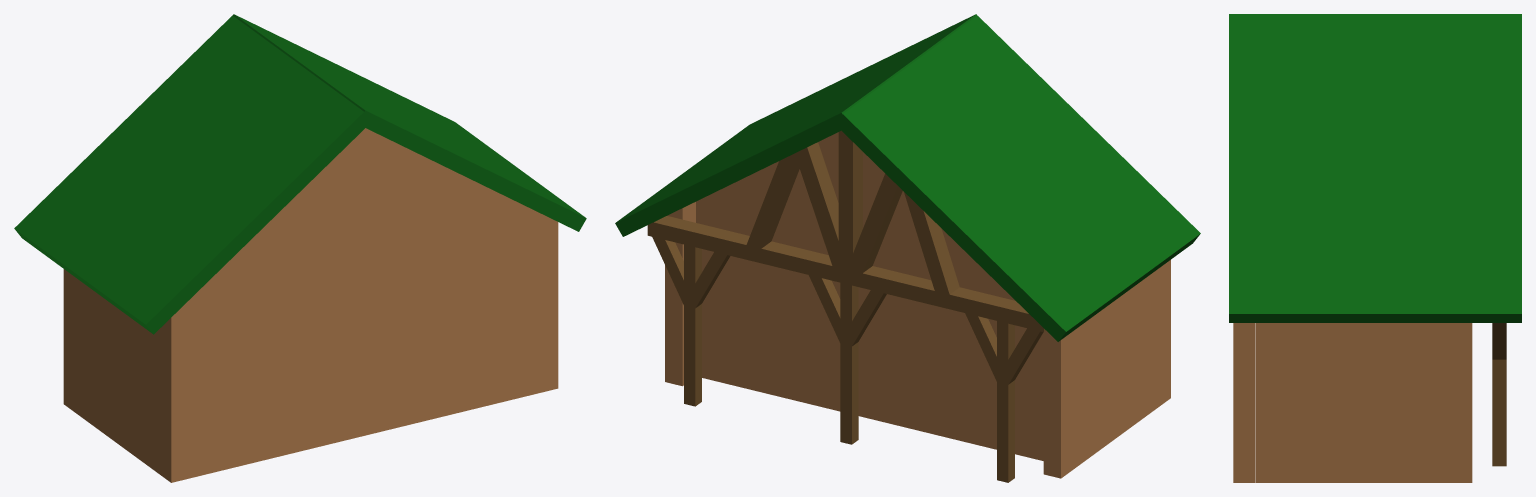
The model's file is ZooBuilding.fbx.
3 views of the same model, side by side, from view 1: azimuth 30°, elevation 25°; view 2: azimuth 150°, elevation 25°; view 3: azimuth 270°, elevation 25° (orthographic). The views are drawn at different scales.
Parts seen in each view (by area): view 1: Cube.027, Cube.023, Cube.029, Cube.022, Cube.026; view 2: Cube.023, Cube.026, Cube.029, Cube.017, Cube.022, Cube.018, Cube.019, Cube.020, Cube.021, Cube.028, Cube.025, Cube.024 (+1 smaller); view 3: Cube.022, Cube.028, Cube.027, Cube.026, Cube.017.
Part boxes in pixels (x1,y1,x2,y2): Cube.027: (161, 128, 558, 482); Cube.023: (14, 15, 364, 334); Cube.029: (63, 269, 161, 475); Cube.022: (233, 14, 586, 231); Cube.026: (77, 279, 86, 420); Cube.023: (835, 15, 1200, 341); Cube.026: (696, 132, 1084, 467); Cube.029: (1043, 267, 1160, 478); Cube.017: (652, 237, 1043, 482); Cube.022: (615, 14, 976, 236); Cube.018: (647, 216, 1045, 332); Cube.019: (838, 130, 862, 273); Cube.020: (794, 142, 846, 277); Cube.021: (844, 173, 902, 284); Cube.028: (665, 202, 695, 386); Cube.025: (904, 192, 959, 297); Cube.024: (746, 153, 799, 257); Cube.022: (1229, 14, 1521, 322); Cube.028: (1255, 323, 1472, 482); Cube.027: (1233, 323, 1255, 482); Cube.026: (1421, 323, 1442, 482); Cube.017: (1492, 323, 1506, 466).
Size of the model in its own units: 2053 by 1463 by 1062.
